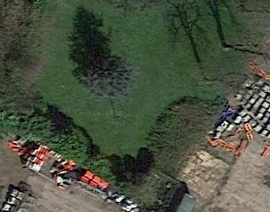tree: (66, 50, 138, 109), (100, 141, 160, 191)
